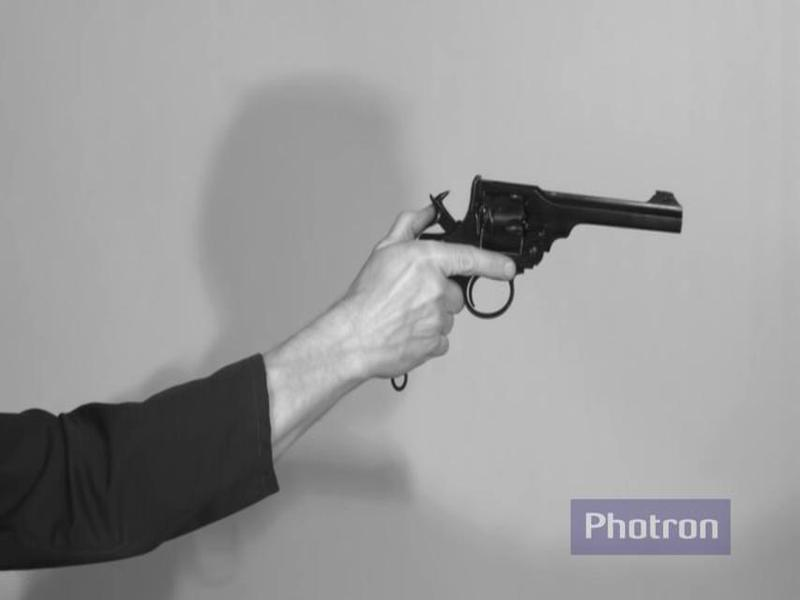Revolver: (400, 174, 678, 340)
